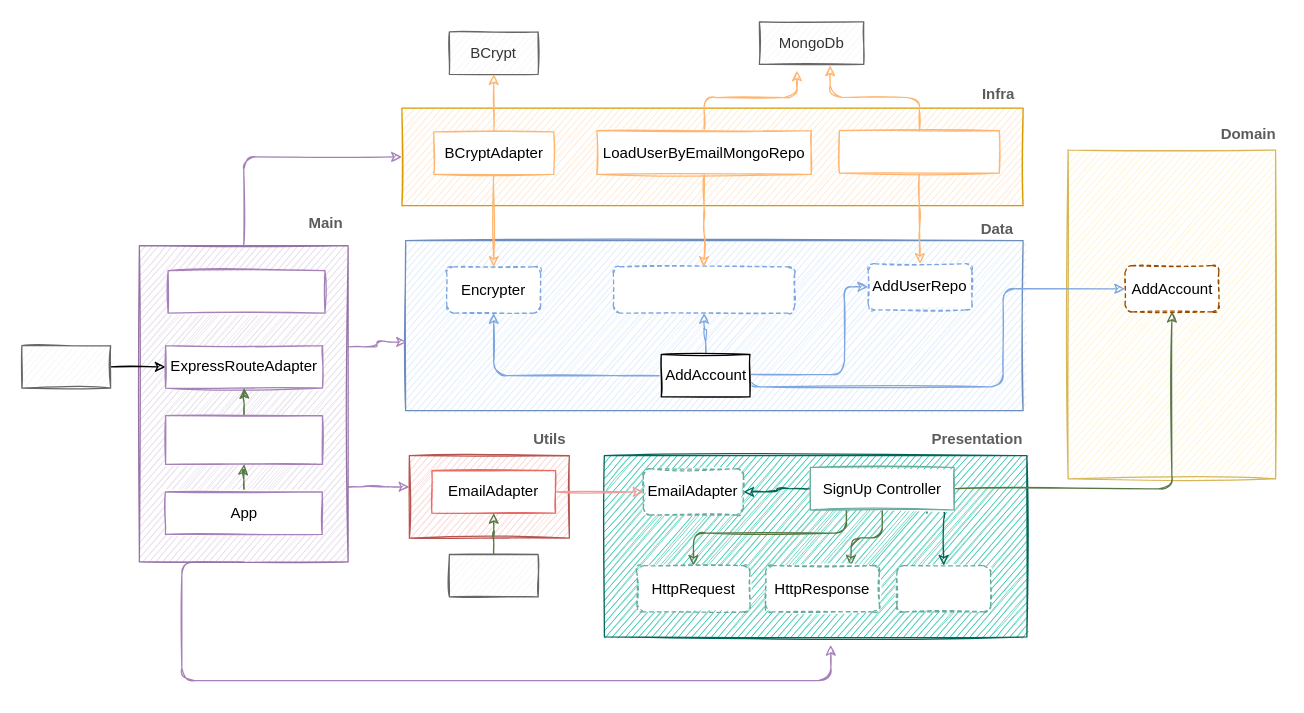
This 1304x713 diagram has some shape labels left out. Each missing label, with the centre of its shape:
AddUserMongoRepo: the point at 918,151
Controller: the point at 943,588
Express: the point at 66,366
LoadUserByEmailRepo: the point at 703,289
SignupComposer: the point at 246,291
SignupRouter: the point at 243,439
Validator: the point at 493,575
